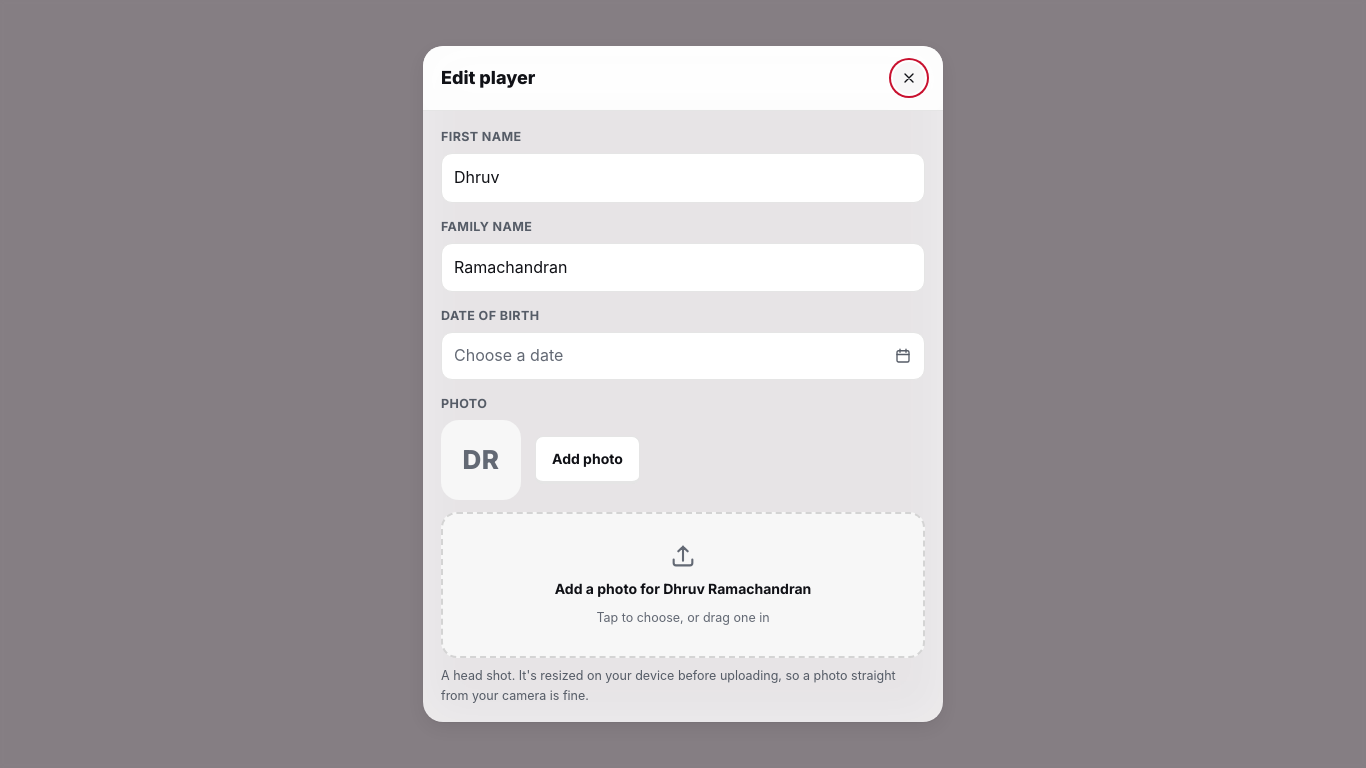
Scenario: PlayerForm — validation › refuses to blank a family name that the row already had
Clear the field labelled "Family name" at x=683, y=268, box top-left (441, 243), bottom-right (925, 292)
(page scrolled)
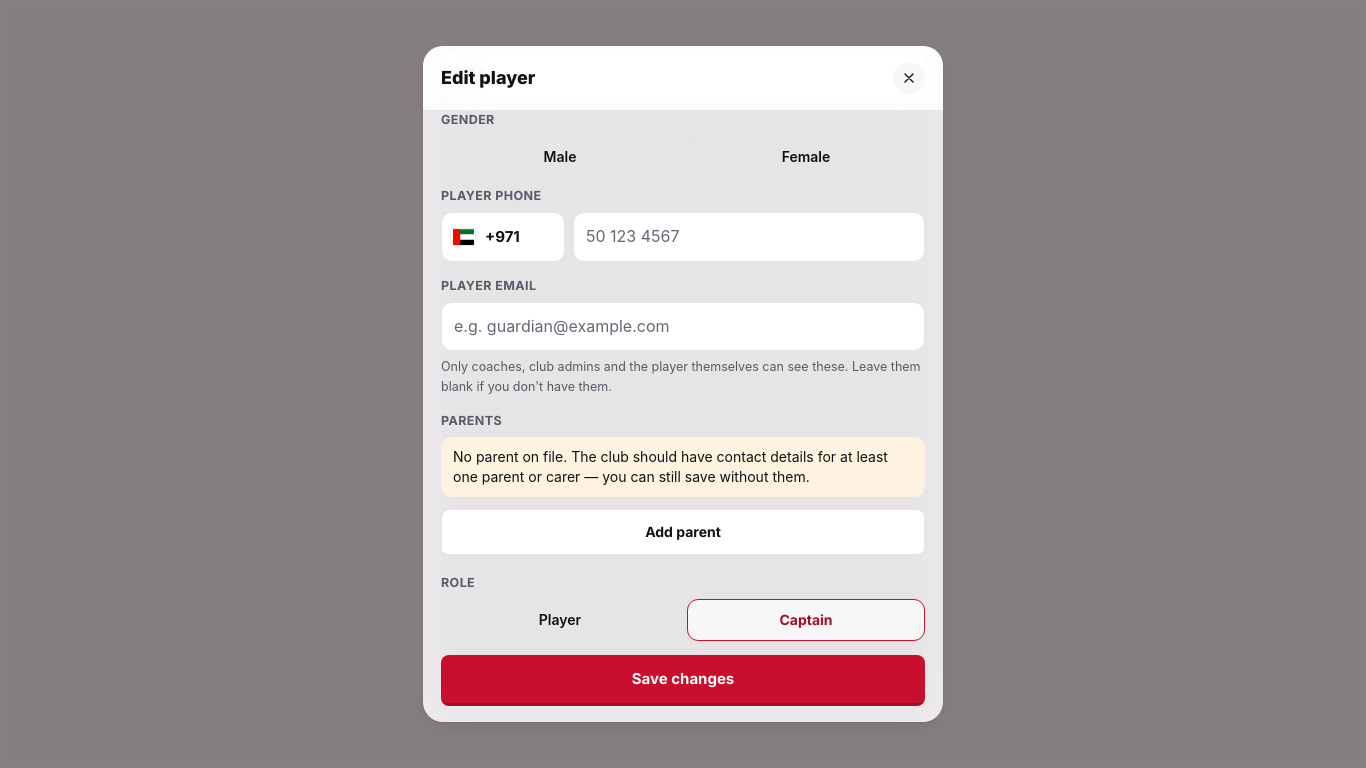
Click the button "Save changes" at x=683, y=681, box top-left (441, 655), bottom-right (925, 706)
(page scrolled)
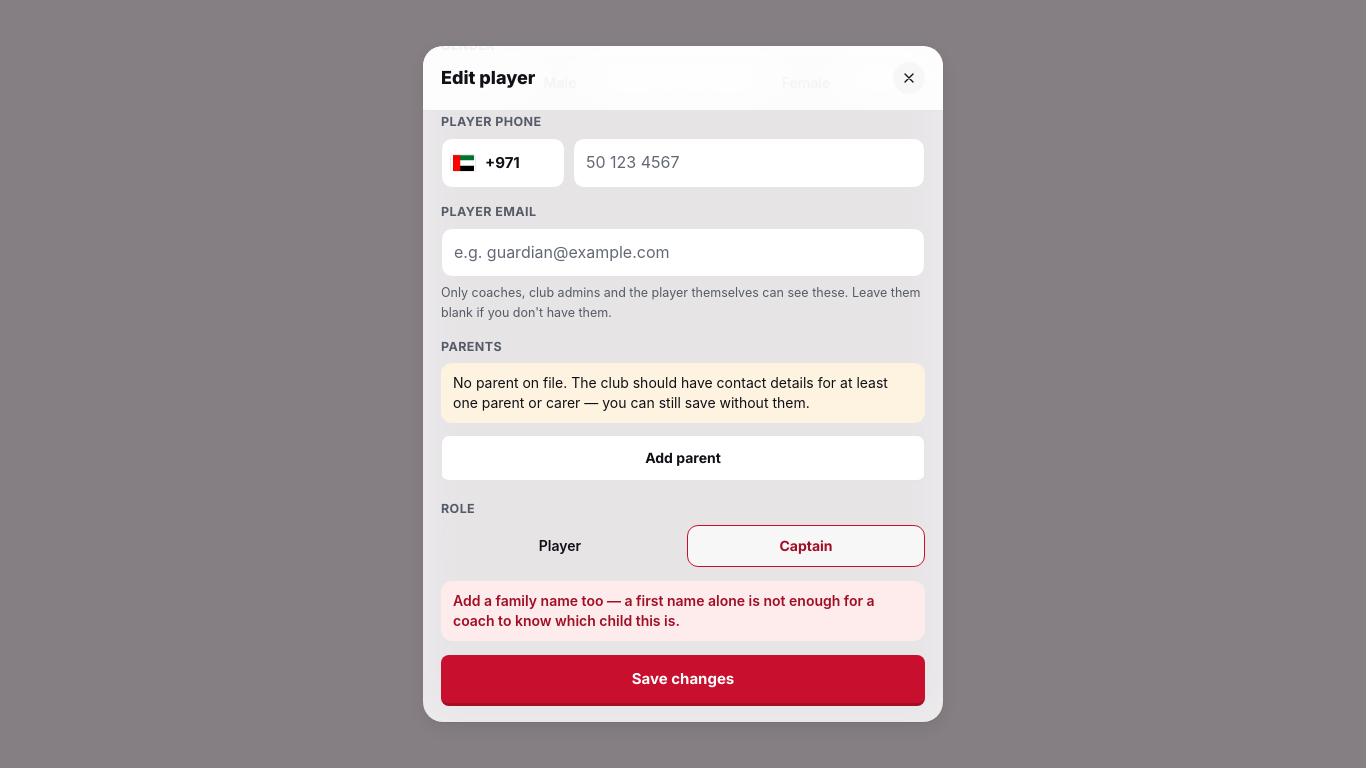
expect the 2nd message shows "family name": met, box top-left (453, 592), bottom-right (875, 629)
